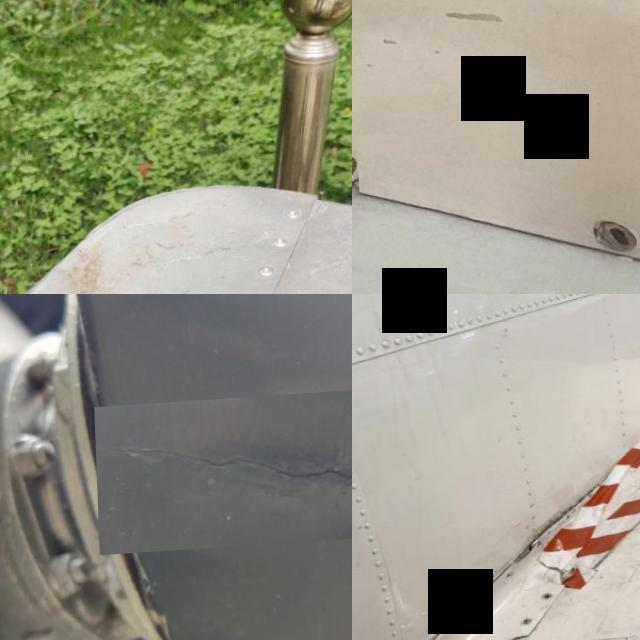Crack: (92, 391, 352, 557), (508, 508, 584, 573)
Missing_Fastener: (584, 224, 640, 265), (465, 607, 477, 618), (536, 598, 550, 606), (500, 576, 510, 584)
